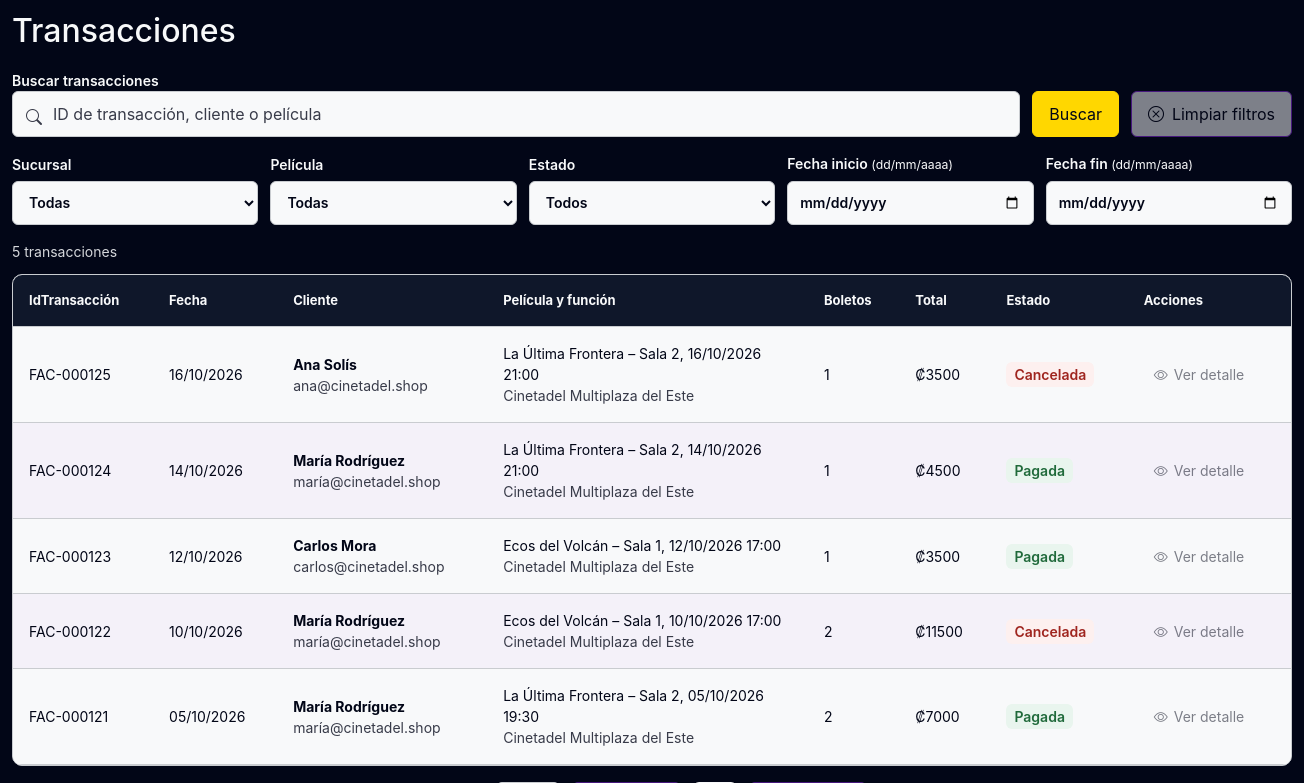
Test: TransactionsSection › rejects a start date after the end date without asking the API
Type "2026-10-05" into the date field named "dateTo".
click(1169, 203); type("2026-10-05")  # box top-left (1046, 181), bottom-right (1292, 225)
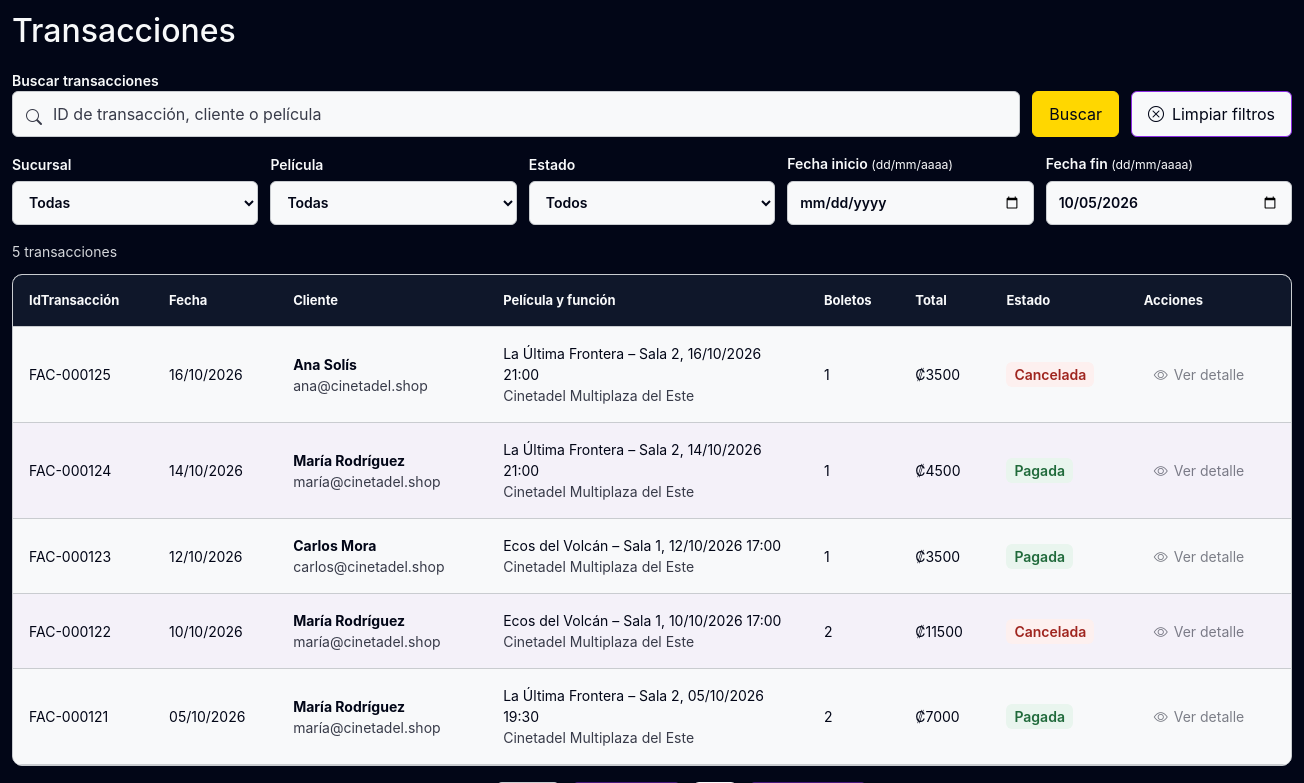
Type "2026-10-16" into the date field named "dateFrom".
click(910, 203); type("2026-10-16")  # box top-left (787, 181), bottom-right (1034, 225)
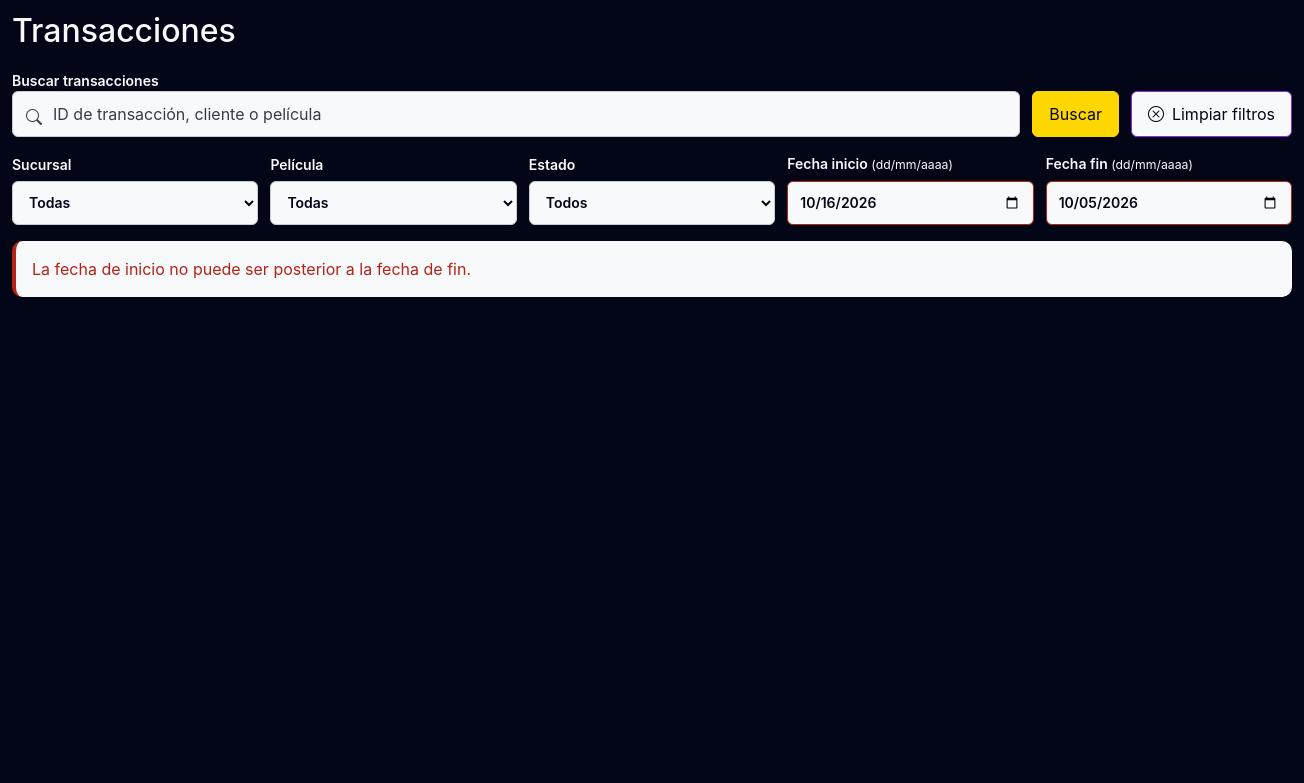
Now the message with class "feedback" reads "La fecha de inicio no puede ser posterior a la fecha de fin.", box top-left (32, 259), bottom-right (471, 279)
